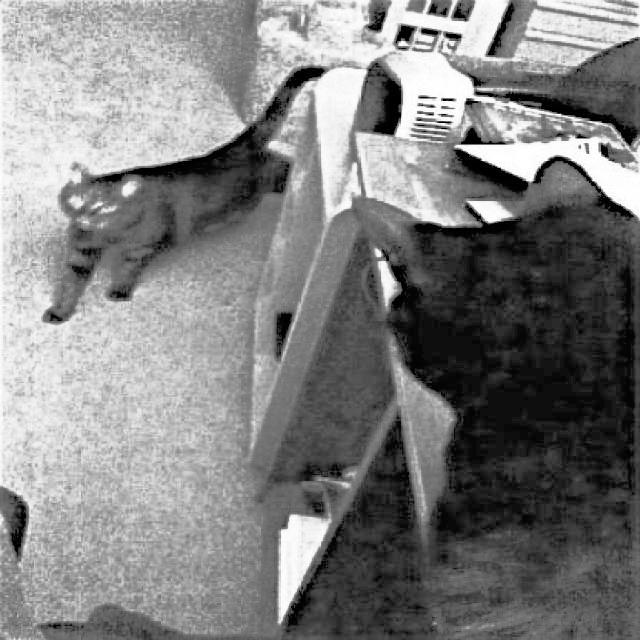Cat: (341, 147, 636, 640), (39, 63, 336, 326)
